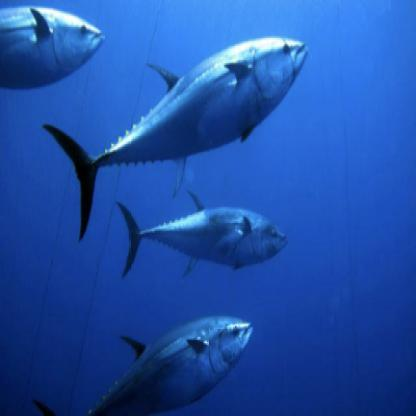Scombridae -Tunas-: (42, 36, 312, 241), (77, 315, 256, 416), (108, 186, 295, 278), (1, 1, 110, 90)
